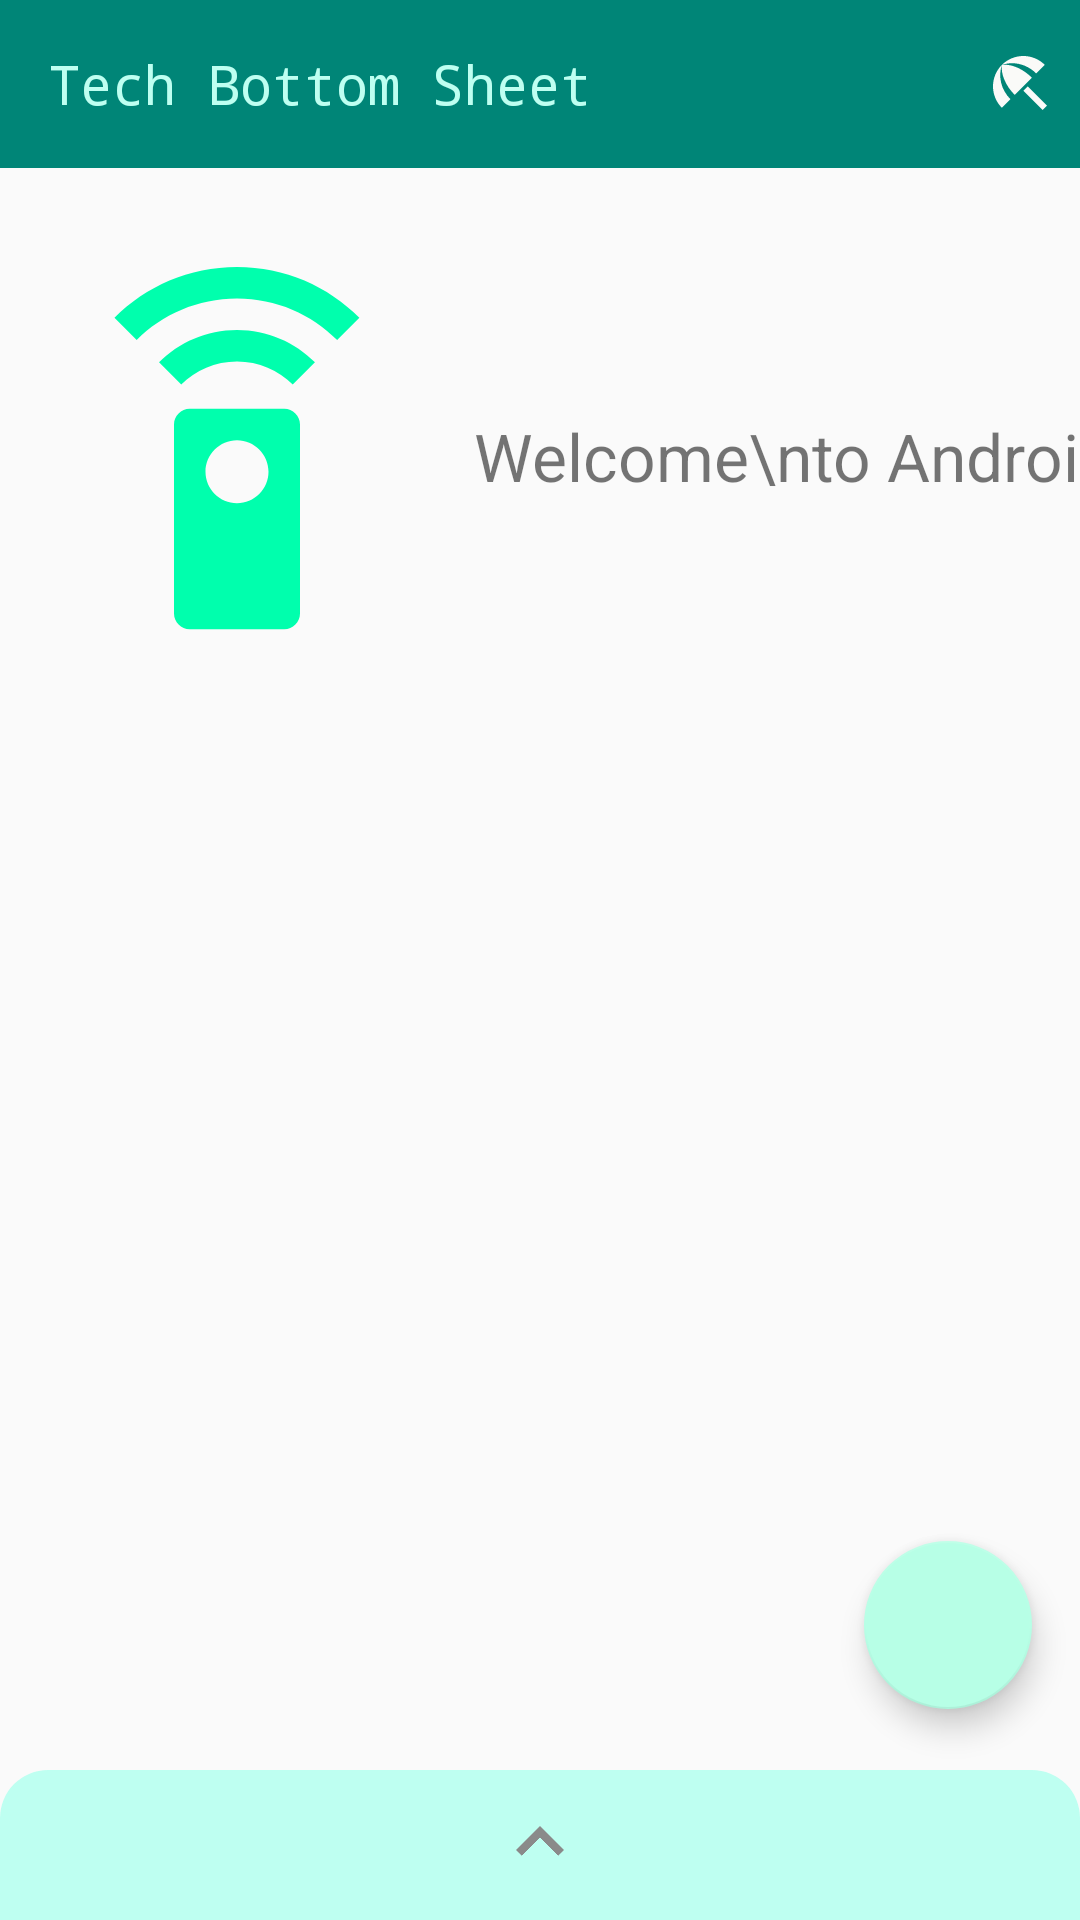

Icons on this 1080px×1920px Android screen, each with the point to tap as [x,y]:
beach access: [1020,83]
expand less: [540,1841]
